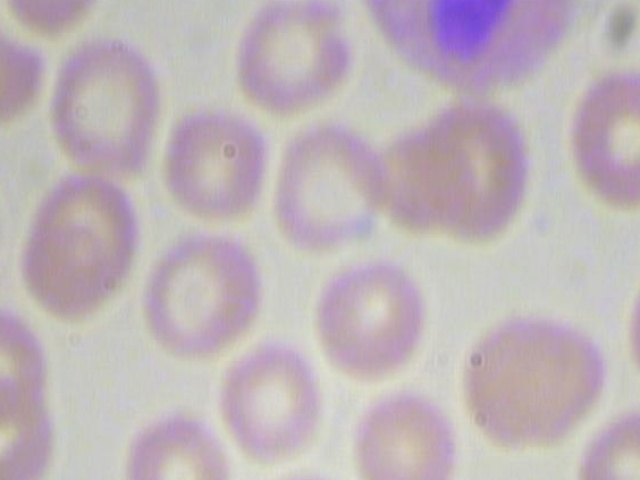RBC: (456, 301, 612, 447), (42, 29, 167, 183), (18, 165, 143, 319), (311, 243, 428, 384), (143, 225, 260, 365), (269, 119, 394, 248), (229, 0, 355, 116), (218, 338, 327, 469), (160, 99, 269, 229), (340, 382, 458, 480), (566, 66, 640, 220), (121, 410, 231, 480), (568, 394, 640, 480)
WBC: (348, 0, 603, 100)
